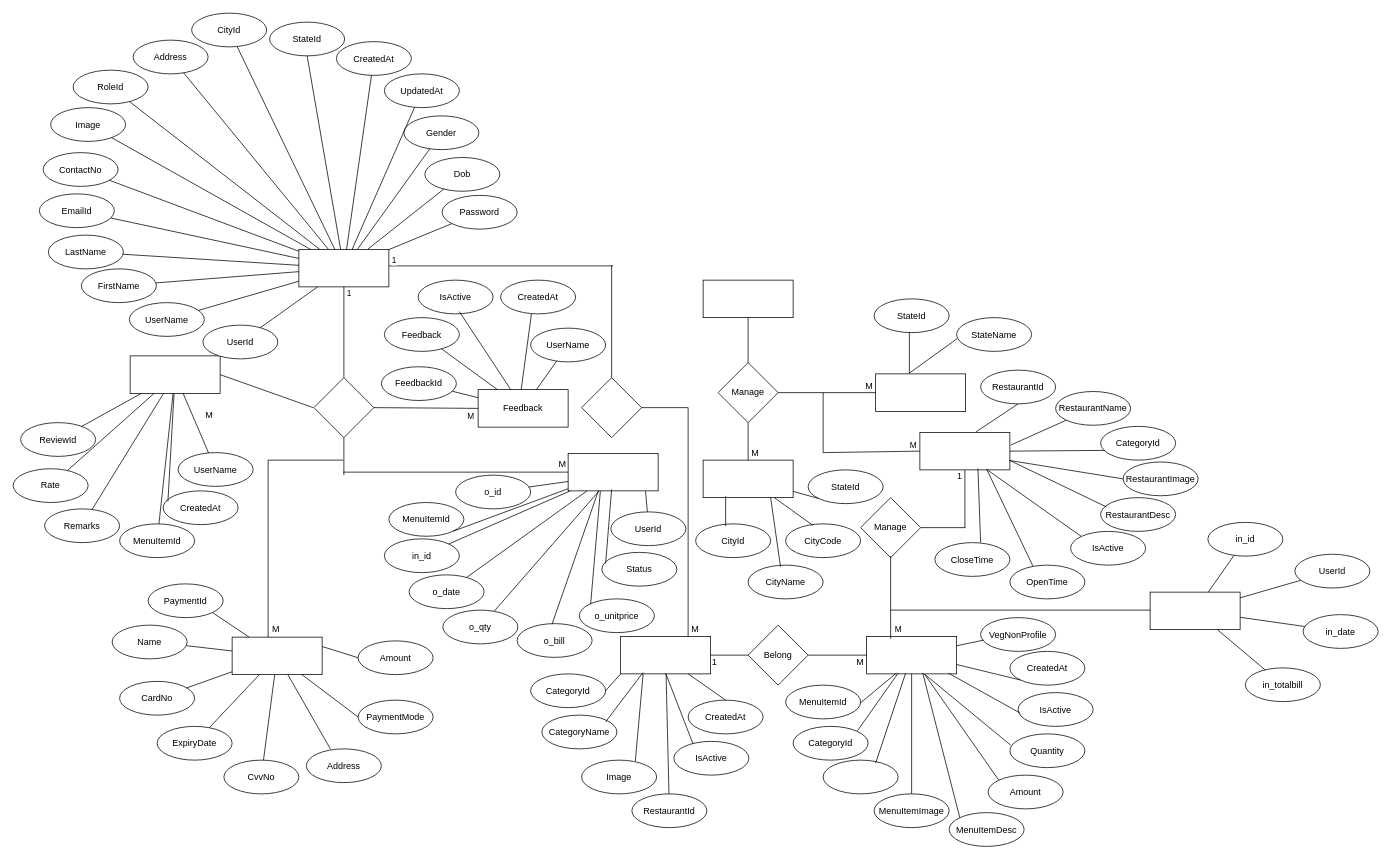
This 1391x860 diagram has some shape labels left out. Each missing label, with the box of its shape:
Admin: (702, 279, 793, 318)
Category: (620, 636, 711, 674)
City: (702, 459, 793, 498)
Give: (313, 377, 374, 438)
Invoice: (1149, 591, 1240, 630)
MenuItem: (866, 636, 957, 674)
MenuItemName: (822, 759, 898, 794)
order: (567, 453, 658, 491)
Payment: (231, 636, 322, 675)
Restaurant: (919, 432, 1010, 470)
Review: (129, 355, 220, 393)
State: (875, 373, 966, 411)
User: (298, 249, 389, 287)
View: (581, 377, 642, 438)
